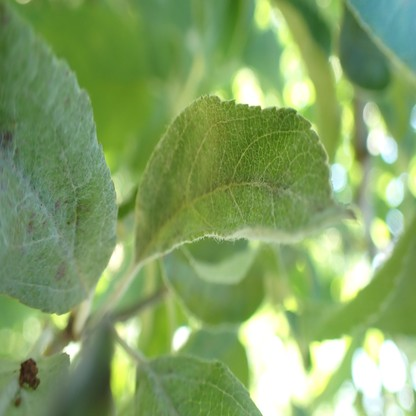powdery_mildew: (0, 2, 118, 317), (133, 96, 336, 261)
